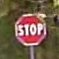stop: (14, 13, 47, 46)
